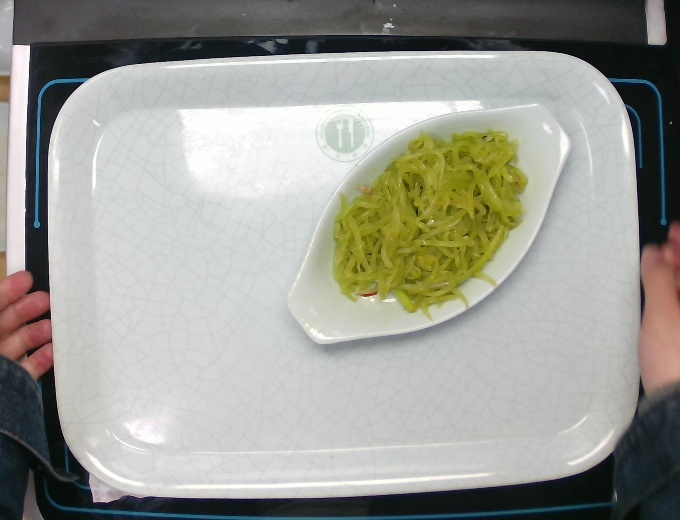JYsf-Yu_Pan: (283, 94, 575, 351)
